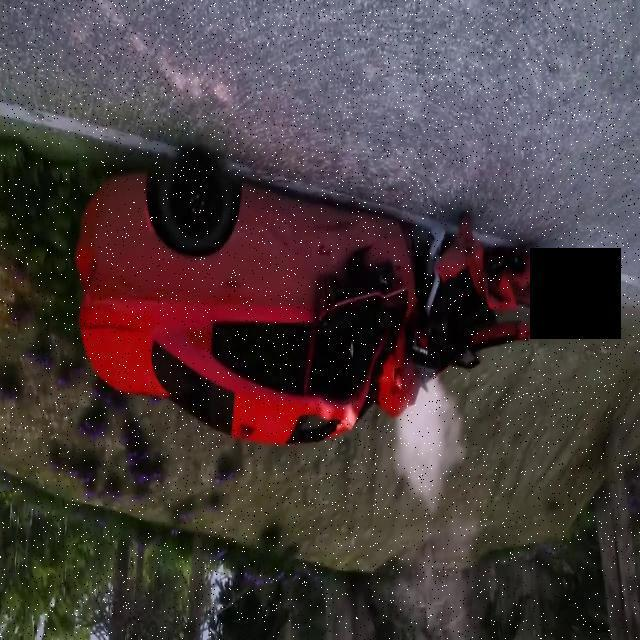vehicle: (66, 79, 640, 488)
